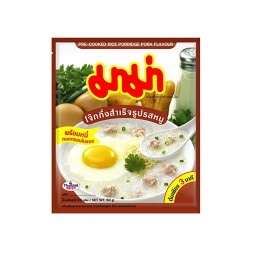Snack: (45, 34, 205, 217)
